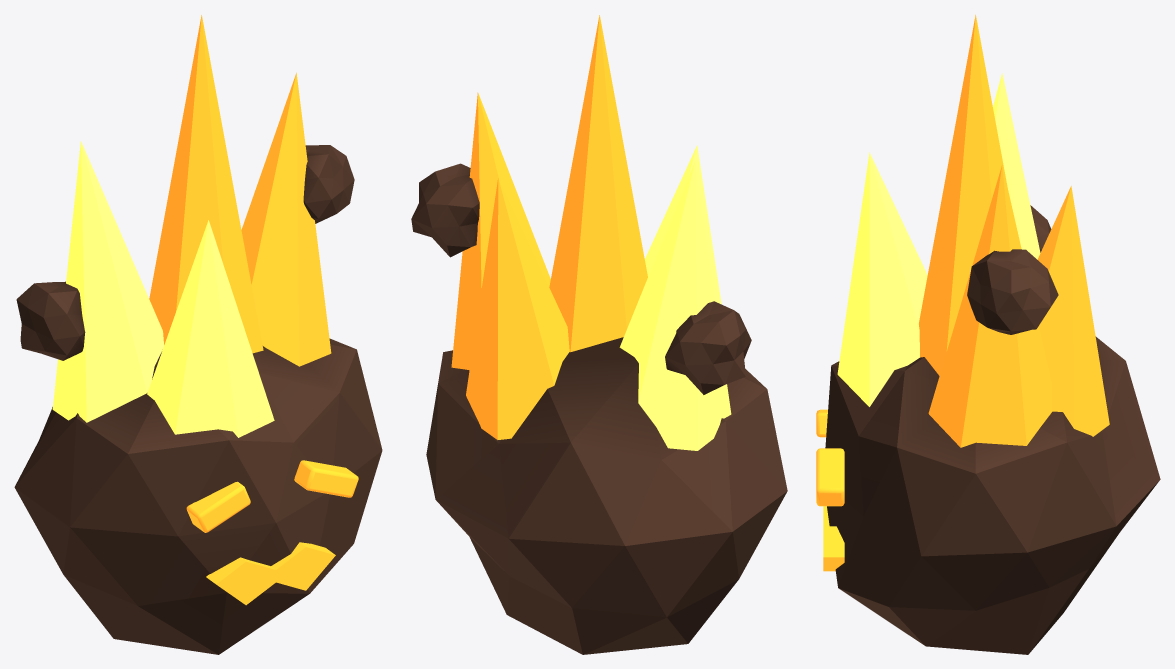
File: alien_meteor.glb
3 views of the same model, side by side, from view 1: azimuth 30°, elevation 25°; view 2: azimuth 150°, elevation 25°; view 3: azimuth 270°, elevation 25° (orthographic). The views are drawn at different scales.
Visible parts, largest first — view 1: rock, flame.001, flame.002, flame.003, flame, pebble, mouth, pebble.001, eye, eye.001; view 2: rock, flame, flame.004, flame.001, flame.002, pebble, pebble.001, flame.003; view 3: rock, flame.002, flame.003, flame, flame.004, pebble.001, flame.001, eye.001, mouth.
Part boxes in pixels (left/top/right/bottom): rock: left=14, top=338, right=382, bottom=654; flame.001: left=52, top=141, right=163, bottom=422; flame.002: left=241, top=72, right=331, bottom=366; flame.003: left=147, top=220, right=274, bottom=437; flame: left=149, top=15, right=263, bottom=353; pebble: left=16, top=281, right=85, bottom=360; mouth: left=206, top=542, right=335, bottom=605; pebble.001: left=303, top=145, right=354, bottom=223; eye: left=186, top=481, right=250, bottom=532; eye.001: left=294, top=460, right=358, bottom=497; rock: left=426, top=337, right=787, bottom=654; flame: left=549, top=15, right=647, bottom=352; flame.004: left=466, top=178, right=569, bottom=439; flame.001: left=619, top=161, right=731, bottom=450; flame.002: left=451, top=92, right=550, bottom=370; pebble: left=665, top=301, right=751, bottom=394; pebble.001: left=411, top=163, right=479, bottom=257; flame.003: left=644, top=145, right=721, bottom=304; rock: left=825, top=336, right=1160, bottom=654; flame.002: left=928, top=165, right=1052, bottom=447; flame.003: left=837, top=152, right=927, bottom=406; flame: left=919, top=14, right=1007, bottom=375; flame.004: left=1037, top=186, right=1109, bottom=436; pebble.001: left=967, top=249, right=1058, bottom=334; flame.001: left=993, top=73, right=1040, bottom=259; eye.001: left=816, top=448, right=844, bottom=506; mouth: left=823, top=506, right=844, bottom=571.
Size of the model in its own units: 1.09 by 1.93 by 0.972.
